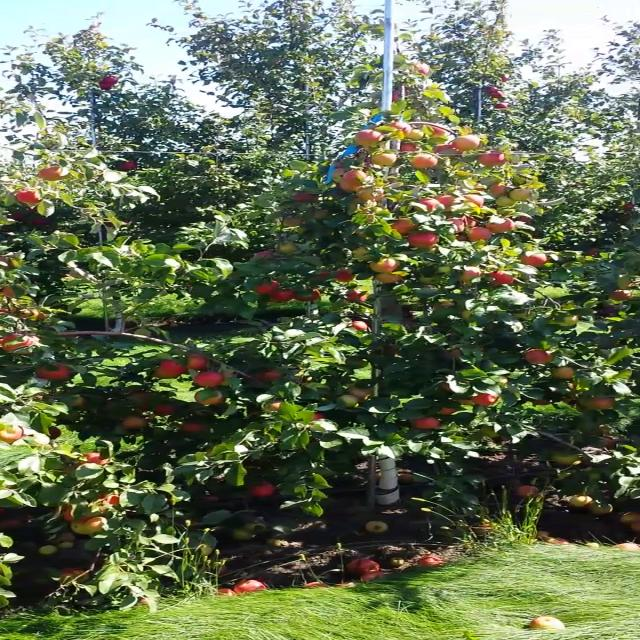apple: (28, 362, 72, 383), (0, 332, 39, 355), (68, 517, 109, 537), (407, 230, 441, 250), (474, 148, 508, 166), (63, 504, 99, 521), (37, 165, 72, 182), (390, 218, 420, 236), (76, 452, 114, 466), (1, 422, 25, 444), (408, 417, 445, 431), (482, 218, 514, 234), (524, 349, 556, 365), (12, 188, 42, 205), (93, 490, 121, 508), (450, 136, 481, 152), (254, 278, 280, 296), (466, 225, 492, 243), (432, 143, 461, 159), (368, 151, 397, 167), (193, 390, 226, 404), (385, 120, 412, 137), (354, 130, 382, 146), (369, 258, 397, 274), (519, 250, 547, 266), (586, 397, 618, 411), (485, 269, 514, 284), (119, 416, 150, 430), (268, 288, 295, 304), (196, 371, 223, 387), (356, 187, 386, 201), (412, 198, 442, 212), (412, 153, 438, 169), (471, 393, 499, 407), (184, 354, 208, 370), (552, 367, 578, 381), (334, 395, 360, 409), (153, 367, 183, 379), (460, 266, 482, 282), (332, 268, 357, 282), (462, 194, 487, 208), (293, 288, 322, 300), (607, 290, 635, 302), (348, 388, 372, 402), (556, 453, 583, 465), (338, 181, 364, 193), (344, 289, 370, 301), (508, 188, 534, 200), (494, 195, 518, 208), (250, 484, 276, 496), (444, 218, 464, 233), (346, 170, 369, 183), (276, 242, 300, 254), (161, 360, 185, 372), (434, 193, 460, 204), (375, 272, 403, 282), (488, 182, 508, 196), (292, 192, 319, 202), (355, 247, 375, 260), (428, 125, 446, 139), (419, 275, 440, 287), (180, 423, 204, 433), (152, 405, 175, 415), (332, 168, 348, 182), (252, 252, 276, 261), (458, 215, 476, 227), (265, 400, 283, 412), (258, 370, 284, 378), (313, 270, 330, 282), (401, 142, 419, 152), (352, 321, 370, 331), (439, 406, 457, 416), (282, 218, 303, 226), (454, 397, 475, 405), (415, 62, 429, 74), (408, 131, 424, 141), (392, 89, 405, 101), (3, 285, 16, 297), (440, 382, 453, 392), (310, 412, 324, 421), (72, 397, 84, 407)
